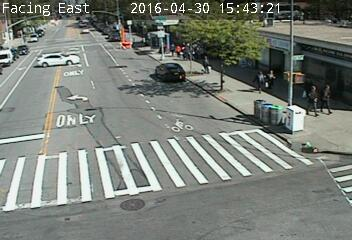neg: (16, 45, 37, 73), (60, 29, 78, 53), (253, 109, 271, 132), (276, 115, 294, 138), (219, 76, 236, 99), (98, 24, 114, 45), (122, 31, 137, 50), (43, 18, 57, 36), (66, 16, 78, 33), (85, 18, 97, 34), (80, 65, 91, 80), (219, 20, 230, 34), (25, 29, 35, 41), (211, 73, 221, 85)
pos: (297, 83, 321, 114), (319, 82, 341, 111), (264, 67, 285, 95), (244, 68, 262, 93), (198, 55, 210, 71), (174, 43, 183, 56), (165, 43, 173, 54)
